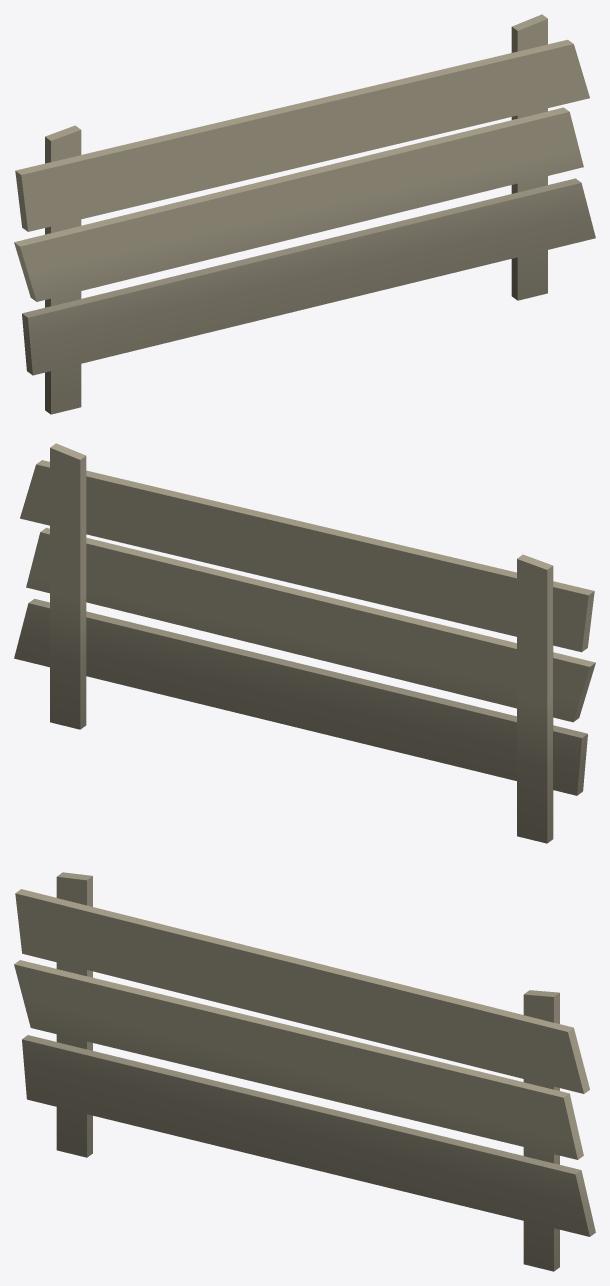
File: Fence Wood V4 2.glb
The picture shows the model from 3 angles, top to bottom: view 1: azimuth 30°, elevation 25°; view 2: azimuth 150°, elevation 25°; view 3: azimuth 330°, elevation 25°; orthographic projection.
Visible parts, largest first — view 1: Fence Wood V4 2; view 2: Fence Wood V4 2; view 3: Fence Wood V4 2.
Boxes of the visible parts, left/top/right/bottom form: Fence Wood V4 2: left=14, top=14, right=595, bottom=414; Fence Wood V4 2: left=14, top=443, right=595, bottom=843; Fence Wood V4 2: left=14, top=872, right=595, bottom=1271.
Size of what is drawn, in the model's own units: 3.07 by 1.41 by 0.1102.
1 material, 1 textured.
